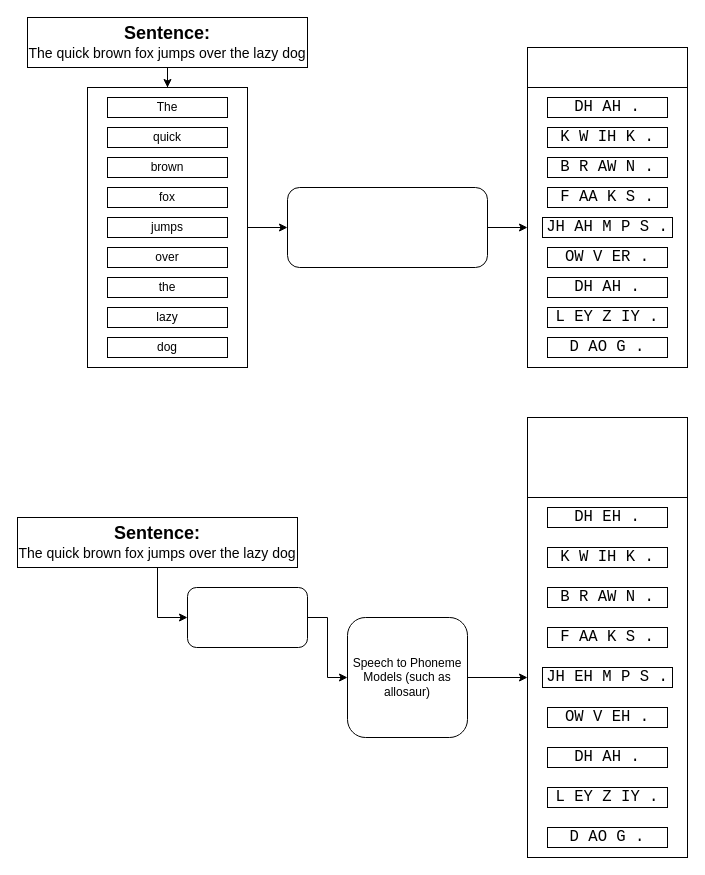
The diagram is 705 pixels wide and 875 high, and some of its shapes have lost their labels. The centre of each missing label's shape, as x and y in pixels:
"CMU Pronouncing Dictionary" goes at point 387,227.
"Read aloud by student" goes at point 247,617.
"Read and predicted Phonemes" goes at point 607,457.
"True Phonemes" goes at point 607,67.
